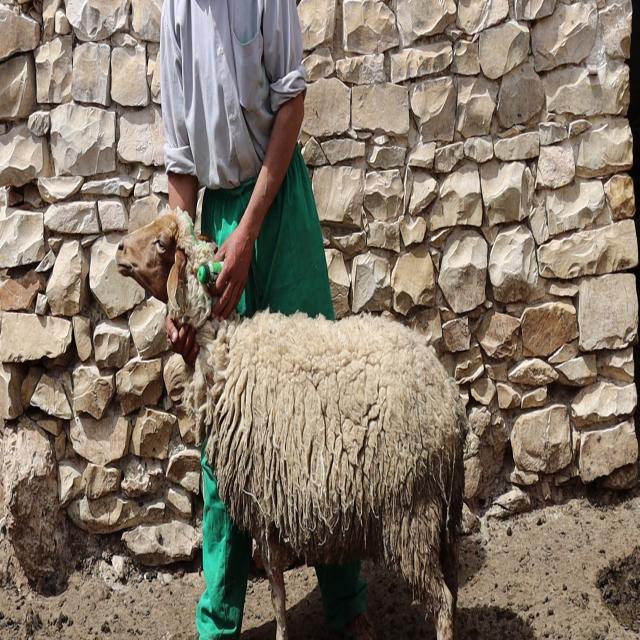Score_3: (116, 209, 469, 639)
